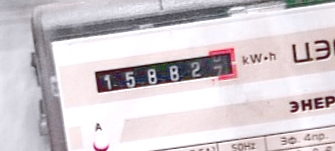1: (102, 72, 114, 91)
2: (189, 59, 202, 78)
5: (123, 70, 136, 88)
7: (211, 63, 224, 77)
8: (145, 66, 158, 84), (168, 64, 180, 81)
screen: (86, 44, 245, 99)
